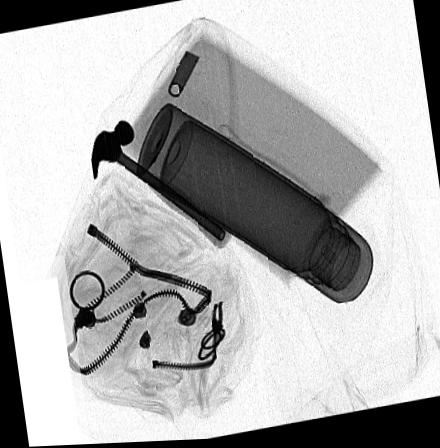Hammer: (91, 120, 234, 250)
